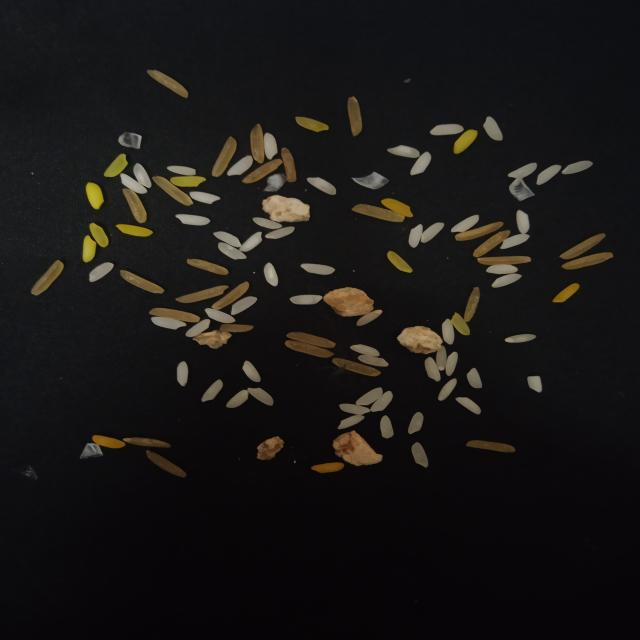Broken: (146, 69, 189, 99), (152, 176, 194, 206), (559, 233, 605, 259), (31, 260, 64, 296), (146, 450, 187, 478), (211, 281, 249, 310), (211, 136, 237, 177), (242, 158, 283, 184), (472, 230, 510, 258), (120, 270, 164, 294), (455, 221, 504, 241), (175, 285, 229, 303), (352, 204, 405, 222), (122, 188, 148, 224), (562, 252, 614, 270), (332, 358, 381, 377), (284, 340, 334, 358), (286, 331, 336, 348), (149, 308, 200, 322), (187, 258, 229, 275), (381, 198, 414, 218), (347, 96, 363, 137), (466, 440, 515, 453), (103, 154, 129, 178), (250, 124, 265, 164), (453, 130, 478, 154), (387, 250, 412, 274), (281, 147, 297, 183), (464, 286, 480, 322), (552, 283, 580, 303), (122, 437, 172, 448), (296, 116, 329, 132), (89, 222, 109, 248), (86, 182, 104, 210), (115, 224, 153, 237), (478, 256, 532, 265), (92, 434, 126, 448), (451, 312, 470, 335), (82, 235, 96, 263), (311, 462, 344, 473), (170, 176, 206, 186), (220, 323, 254, 332), (527, 376, 542, 392)
Full: (536, 164, 562, 186), (410, 151, 431, 176), (218, 242, 247, 260), (247, 387, 274, 406), (306, 178, 336, 195), (201, 379, 223, 402), (151, 316, 187, 330), (421, 222, 445, 243), (89, 262, 114, 282), (205, 308, 236, 324), (356, 387, 383, 405), (371, 391, 394, 412), (483, 117, 503, 141), (500, 234, 530, 250), (451, 215, 479, 232), (411, 442, 429, 468), (231, 297, 257, 315), (175, 213, 211, 226), (455, 397, 481, 415), (507, 163, 538, 178), (239, 232, 262, 252), (438, 378, 458, 401), (134, 163, 152, 188), (492, 273, 522, 288), (337, 414, 365, 430), (214, 232, 242, 248), (430, 123, 464, 136), (562, 160, 593, 174), (186, 319, 210, 337), (387, 145, 420, 158), (242, 360, 261, 382), (425, 356, 441, 382), (189, 191, 221, 204), (226, 390, 249, 408), (301, 263, 335, 275), (357, 310, 382, 326), (265, 227, 295, 240), (264, 133, 278, 160), (339, 404, 370, 416), (358, 354, 389, 366), (253, 217, 283, 229), (350, 344, 380, 356), (408, 224, 423, 248), (408, 412, 424, 434), (290, 294, 322, 305), (442, 318, 455, 345), (466, 368, 483, 388), (380, 415, 394, 439), (264, 262, 278, 286), (516, 209, 529, 234), (486, 264, 518, 274), (176, 361, 188, 387), (446, 352, 458, 376), (504, 334, 536, 343), (436, 345, 447, 371), (167, 166, 196, 175)
